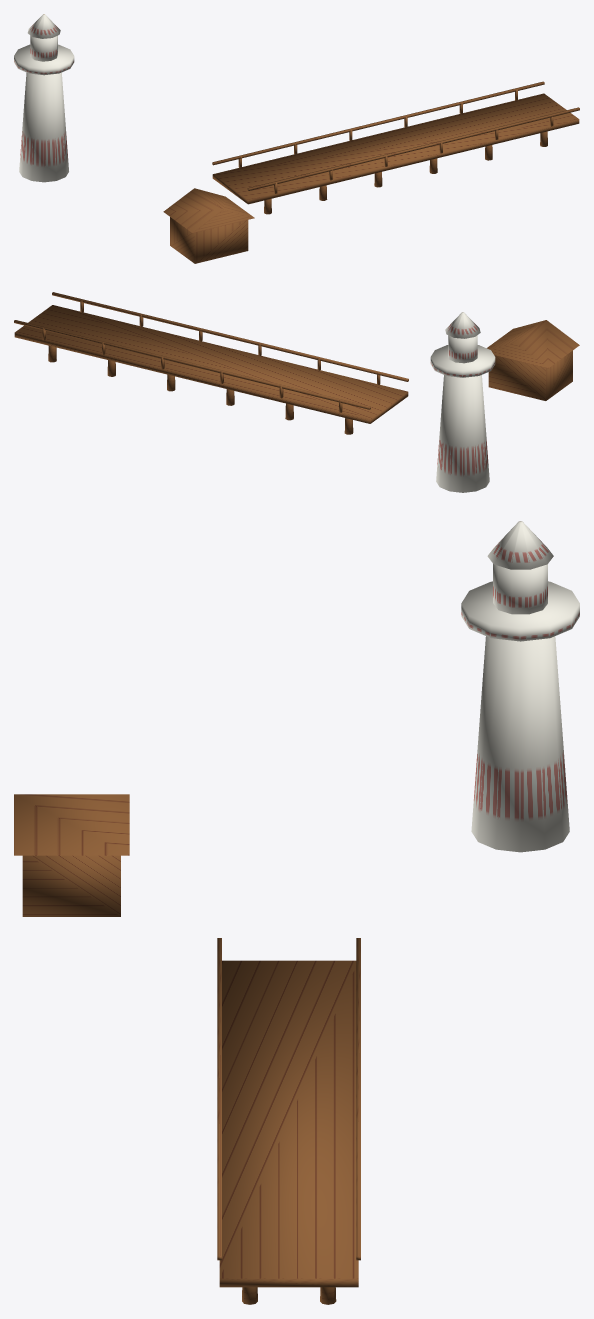
File: PORT_LOD0.fbx
The picture shows the model from 3 angles, top to bottom: view 1: azimuth 30°, elevation 25°; view 2: azimuth 150°, elevation 25°; view 3: azimuth 270°, elevation 25°; orthographic projection. The views are drawn at different scales.
Parts seen in each view (by area): view 1: PORT_LOD0; view 2: PORT_LOD0; view 3: PORT_LOD0.
Boxes of the visible parts, <box> form: PORT_LOD0: <box>14,14,579,263</box>; PORT_LOD0: <box>14,292,579,492</box>; PORT_LOD0: <box>14,521,579,1304</box>.
Size of the model in its own units: 38.05 by 19.55 by 13.93.
